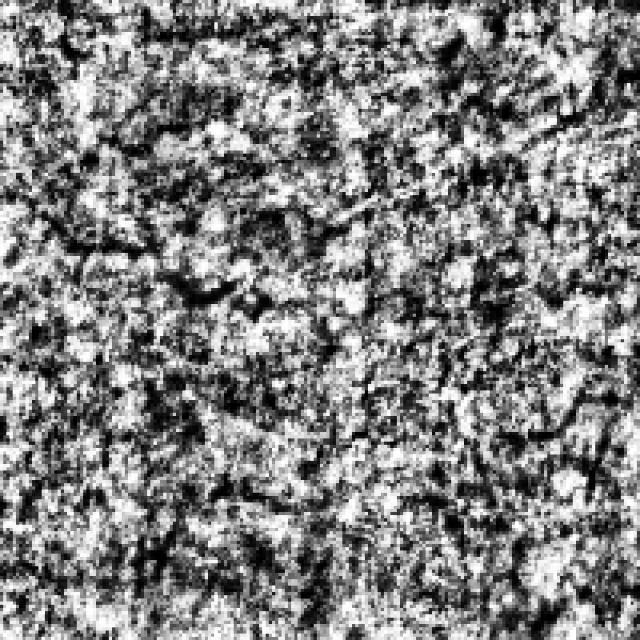Pitted_Surface: (32, 102, 317, 326)
